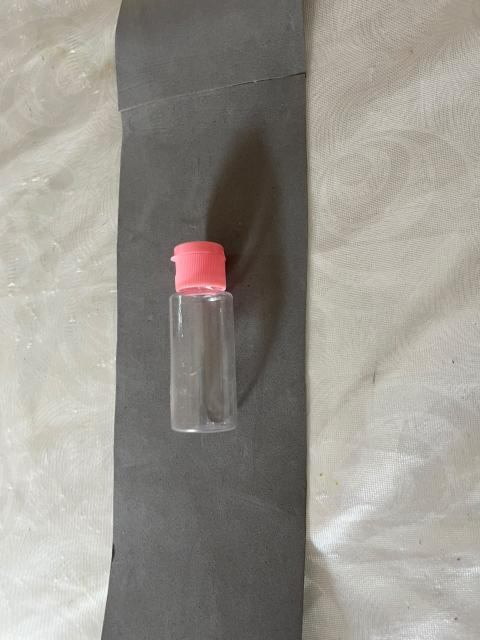PET: (114, 193, 330, 462)
